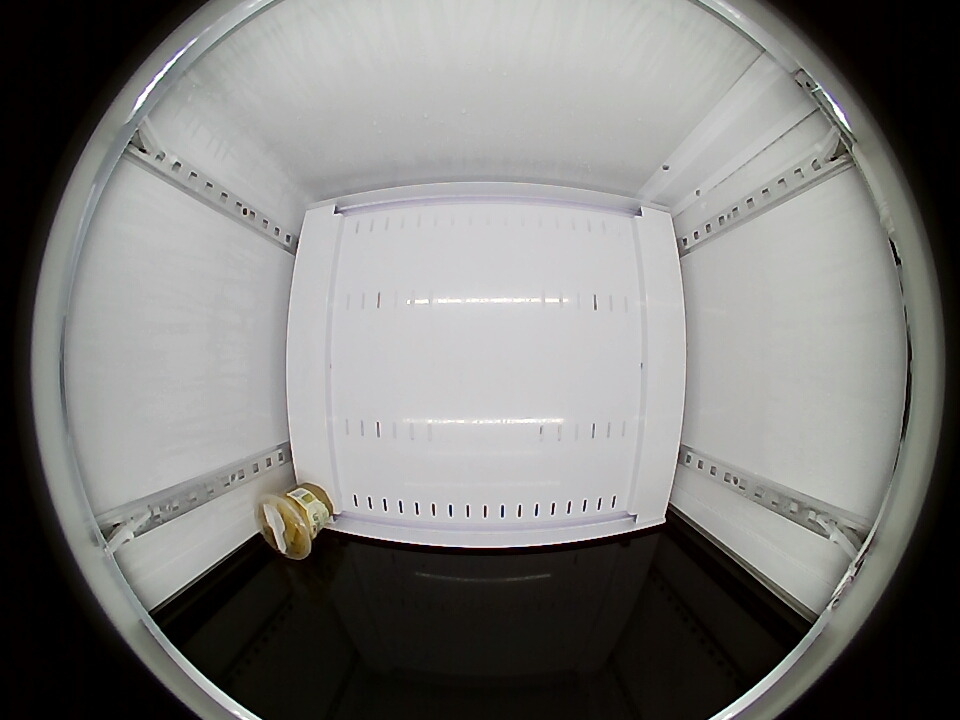xianguolao: (256, 489, 318, 559)
